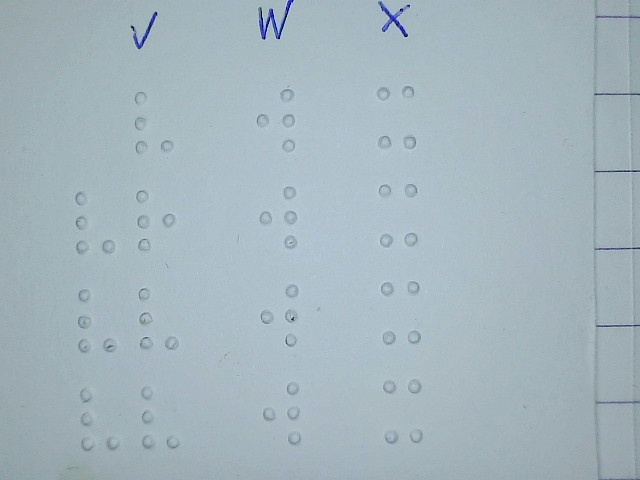V: (133, 89, 176, 156), (136, 285, 179, 352), (73, 188, 116, 255), (139, 383, 182, 450), (78, 385, 121, 452)
W: (254, 85, 297, 152), (257, 183, 300, 250), (258, 281, 301, 348), (260, 378, 303, 445)
X: (374, 83, 417, 150), (377, 180, 420, 247), (379, 277, 422, 344), (381, 377, 424, 444)
